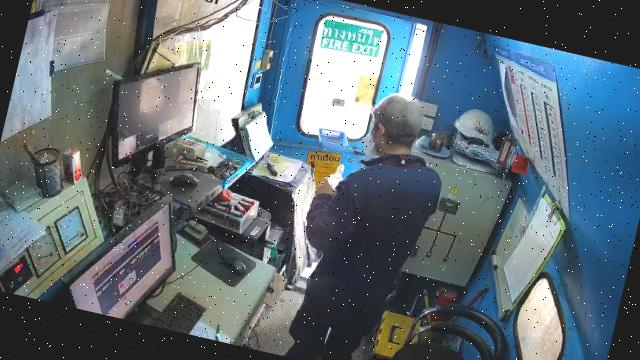Head: (371, 95, 422, 156)
People: (290, 96, 440, 359)
